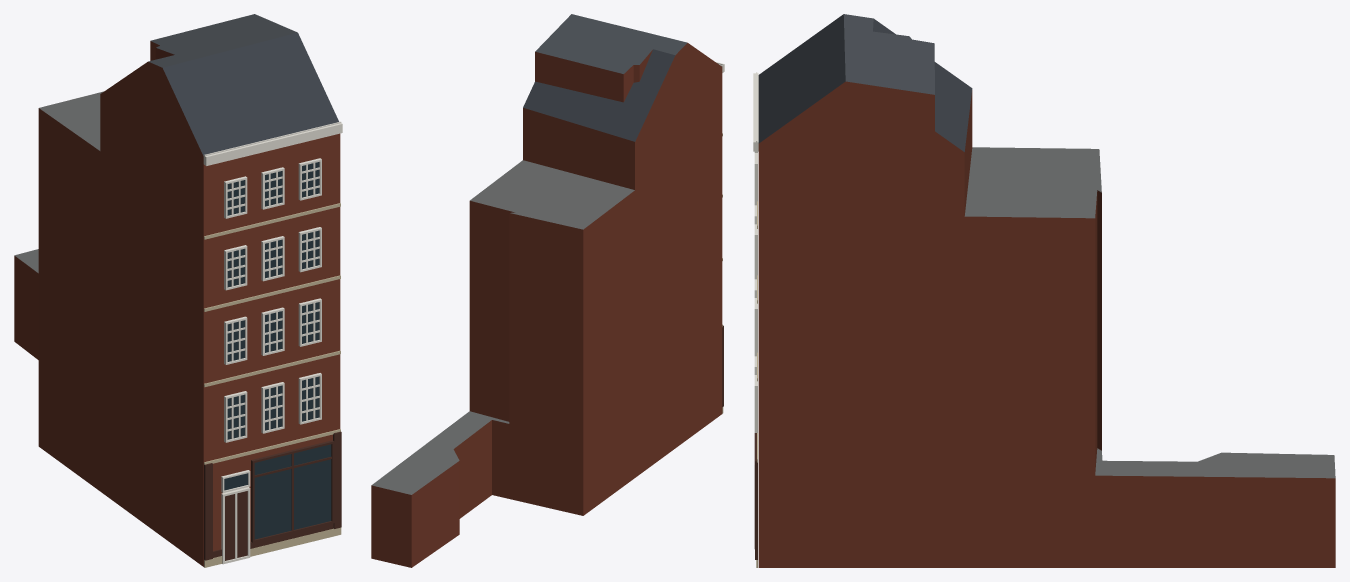
File: recipe-bilder-092394.glb
3 views of the same model, side by side, from view 1: azimuth 30°, elevation 25°; view 2: azimuth 150°, elevation 25°; view 3: azimuth 270°, elevation 25° (orthographic). The views are drawn at different scales.
Visible parts, largest first — view 1: bilder-092394; view 2: bilder-092394; view 3: bilder-092394.
Part boxes in pixels (bbox=[...]): bilder-092394: bbox=[14, 14, 342, 567]; bilder-092394: bbox=[371, 14, 724, 567]; bilder-092394: bbox=[753, 14, 1335, 567].
Bounding box in the file's own units: 5.55 × 18.25 × 19.8.
